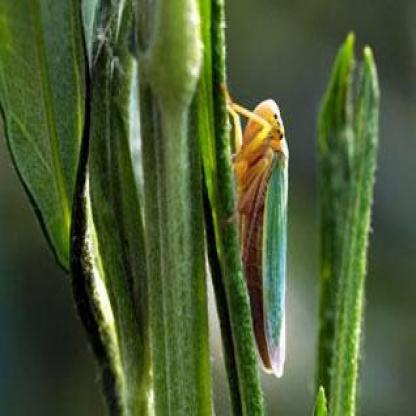Green-Leafhopper: (217, 80, 289, 382)
